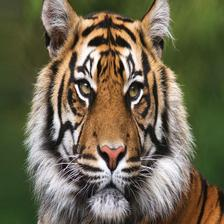tiger: (42, 10, 182, 214)
